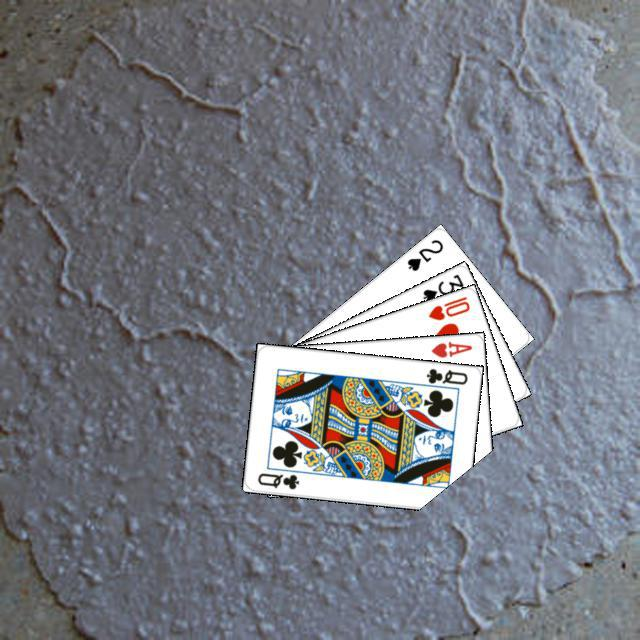10h: (423, 291, 471, 322)
2s: (402, 234, 445, 273)
3s: (418, 269, 465, 304)
Ah: (426, 337, 474, 359)
Qc: (416, 364, 469, 393), (253, 468, 301, 491)
